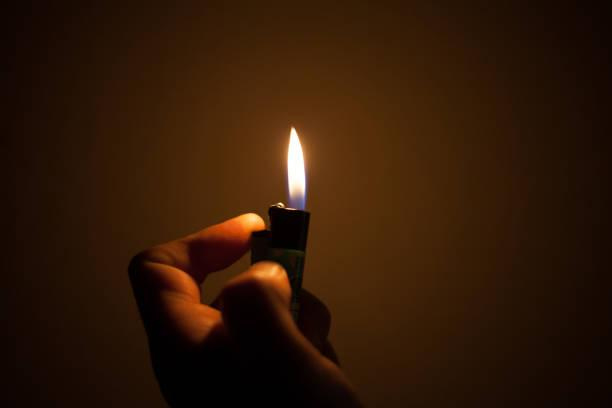Fire: (284, 125, 310, 209)
